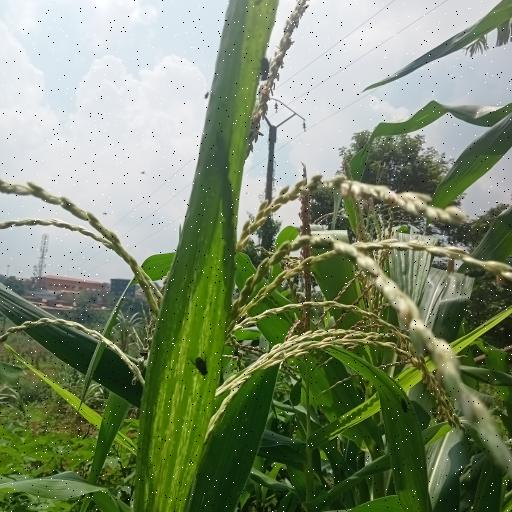Corn_Streak: (133, 0, 291, 507)
